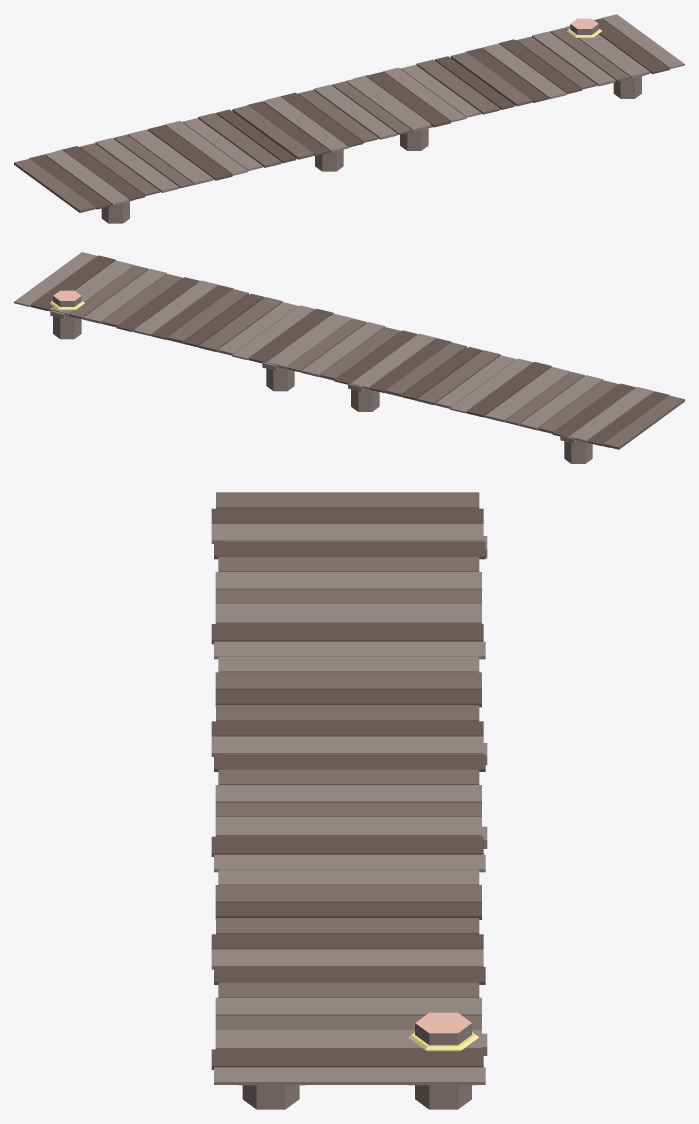
Rendered from bridge.gltf.
3 views of the same model, one above another, from view 1: azimuth 30°, elevation 25°; view 2: azimuth 150°, elevation 25°; view 3: azimuth 270°, elevation 25° (orthographic). The views are drawn at different scales.
Parts seen in each view (by area): view 1: land_79030, land_79043, land_79020, land_79004, land_79008; view 2: land_79030, land_79043, land_79020, land_79004, land_79008; view 3: land_79030, land_79043, land_79020, land_79004.
Boxes of the visible parts, x1,y1,x2,y2 form: land_79030: (14, 109, 296, 212); land_79043: (232, 56, 514, 159); land_79020: (450, 14, 684, 106); land_79004: (353, 18, 644, 150); land_79008: (55, 96, 344, 223); land_79030: (402, 347, 684, 449); land_79043: (184, 293, 466, 396); land_79020: (14, 252, 248, 343); land_79004: (30, 290, 329, 391); land_79008: (319, 337, 632, 463); land_79030: (211, 492, 485, 707); land_79043: (211, 705, 485, 919); land_79020: (211, 918, 485, 1084); land_79004: (226, 826, 487, 1109).
Bounding box in the file's own units: 26.75 × 1.62 × 5.29.
Materials: 1 (1 with a texture image).
